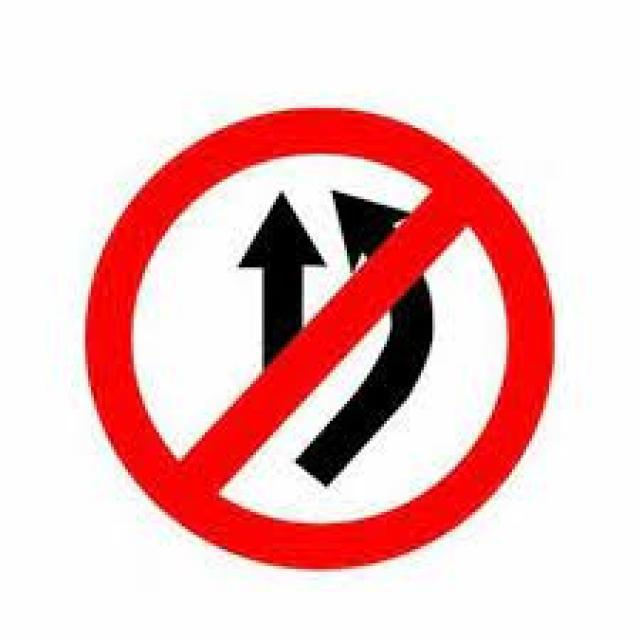overtaking prohibited: (74, 97, 563, 582)
